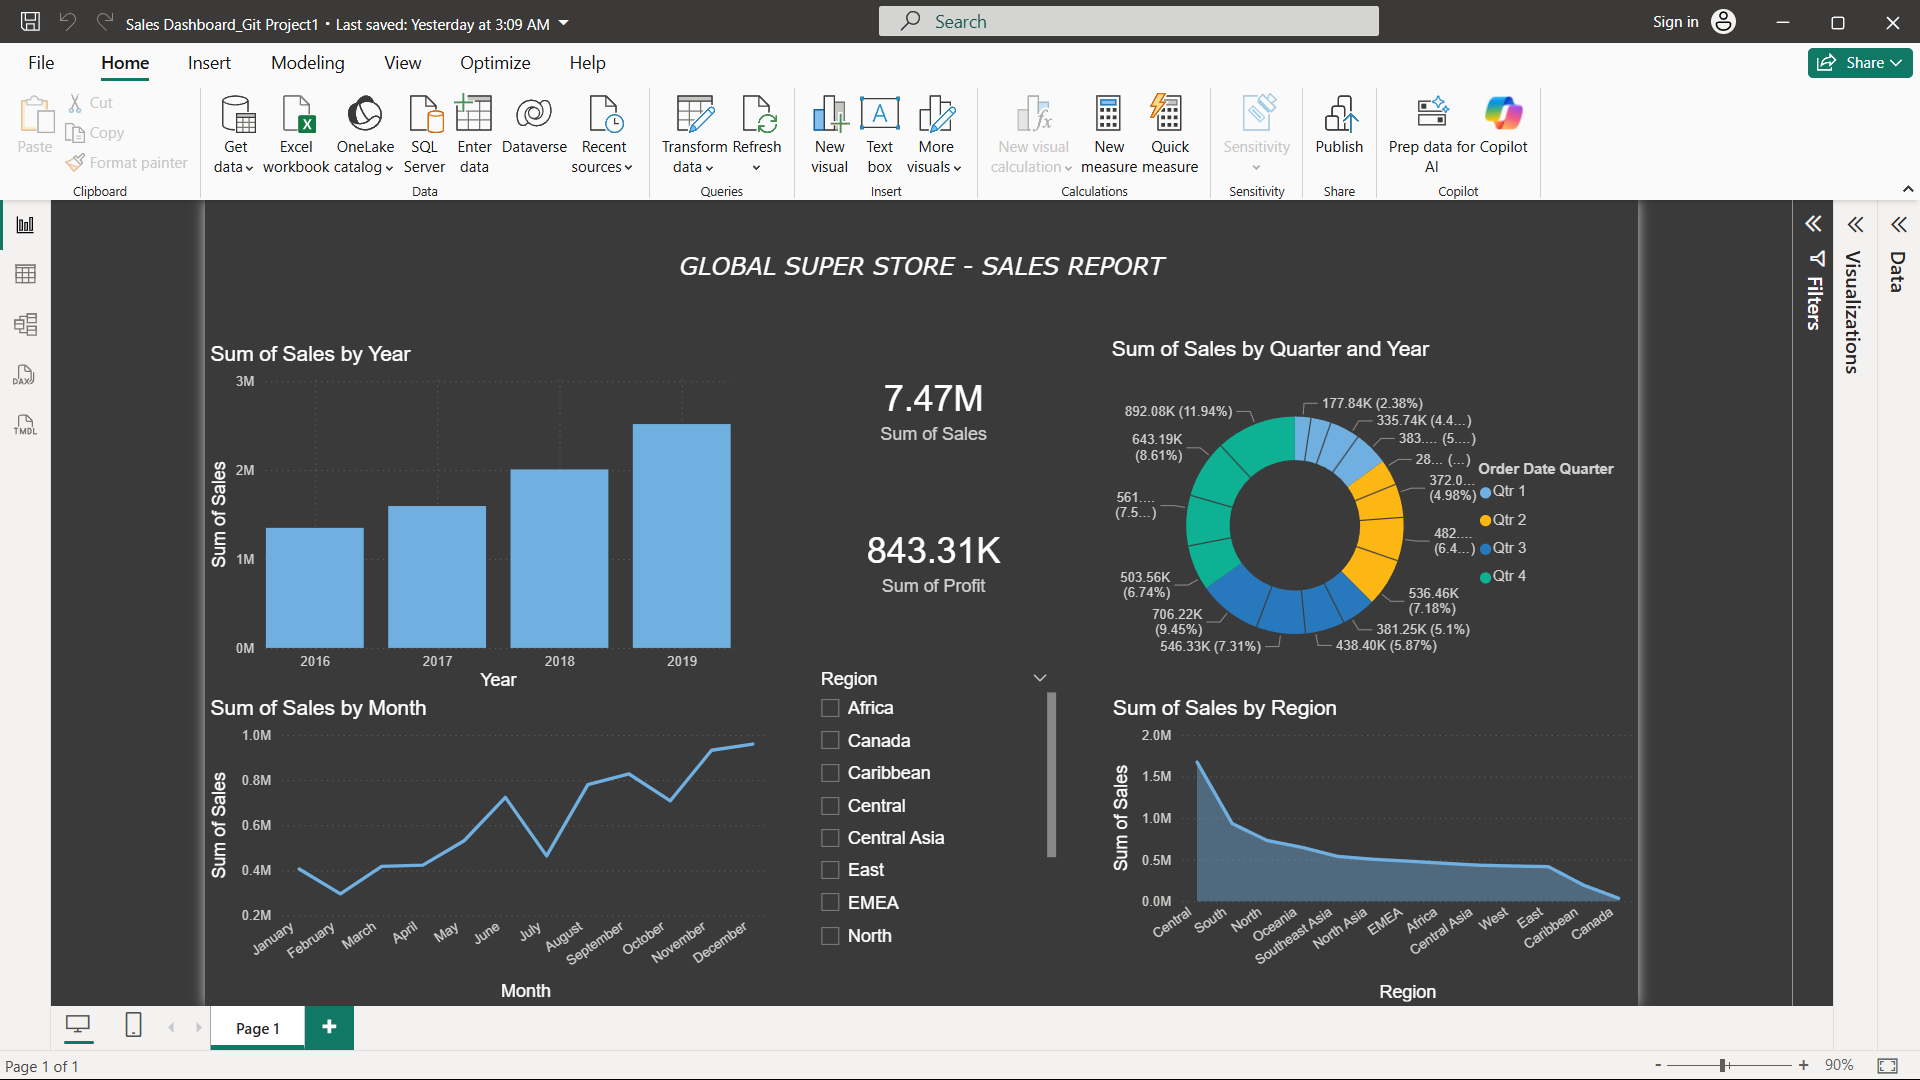

The page's visual inventory and layout, read from the dashboard file:
{"tool":"powerbi","page":{"name":"Page 1","canvas":[1280,720],"ordinal":0},"visuals":[{"type":"columnChart","fields":{"Category":["Orders.Order Date.Variation.Date Hierarchy.Year"],"Y":["Sum(Orders.Sales)"]},"box":[0,127.6,474.8,315.6],"z":0},{"type":"donutChart","fields":{"Y":["Sum(Orders.Sales)"],"Category":["Orders.Order Date.Variation.Date Hierarchy.Quarter"],"Series":["Orders.Order Date.Variation.Date Hierarchy.Year"]},"box":[805.6,123.3,474.4,315.1],"z":1000},{"type":"lineChart","fields":{"Category":["Orders.Order Date.Variation.Date Hierarchy.Month"],"Y":["Sum(Orders.Sales)"]},"box":[0,443,509.3,276.7],"z":2000},{"type":"areaChart","fields":{"Y":["Sum(Orders.Sales)"],"Category":["Orders.Region"]},"box":[805.8,443,474.4,277.9],"z":3000},{"type":"textbox","box":[0,40.7,1280.2,38.4],"z":4000},{"type":"card","fields":{"Values":["Sum(Orders.Sales)"]},"box":[537.2,127.9,227.9,114],"z":5000},{"type":"card","fields":{"Values":["Sum(Orders.Profit)"]},"box":[537.2,265.1,227.9,114],"z":6000},{"type":"slicer","fields":{"Values":["Orders.Region"]},"box":[537.2,414,227.9,266.3],"z":7000}]}

Visuals, with their boxes on the page's 1280x720 design canvas (x1, y1, x2, y2). These are canvas units, not pixel positions in the 1920x1080 screenshot, which may show the page scaled, cropped or inside an application window:
columnChart - Orders.Order Date.Variation.Date Hierarchy.Year x Sum(Orders.Sales): 0, 128, 475, 443
donutChart - Sum(Orders.Sales) x Orders.Order Date.Variation.Date Hierarchy.Quarter: 806, 123, 1280, 438
lineChart - Orders.Order Date.Variation.Date Hierarchy.Month x Sum(Orders.Sales): 0, 443, 509, 720
areaChart - Sum(Orders.Sales) x Orders.Region: 806, 443, 1280, 721
textbox: 0, 41, 1280, 79
card - Sum(Orders.Sales): 537, 128, 765, 242
card - Sum(Orders.Profit): 537, 265, 765, 379
slicer - Orders.Region: 537, 414, 765, 680
